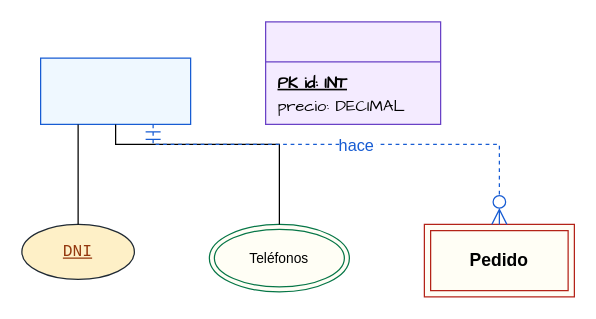
Some shapes in this 596 by 319 pixel diagram are drawn without their labels. The box of each missing label's shape, as (x1, y1, x2, y2) in pixels:
Cliente: (39, 57, 191, 124)
Items: (264, 21, 441, 124)
